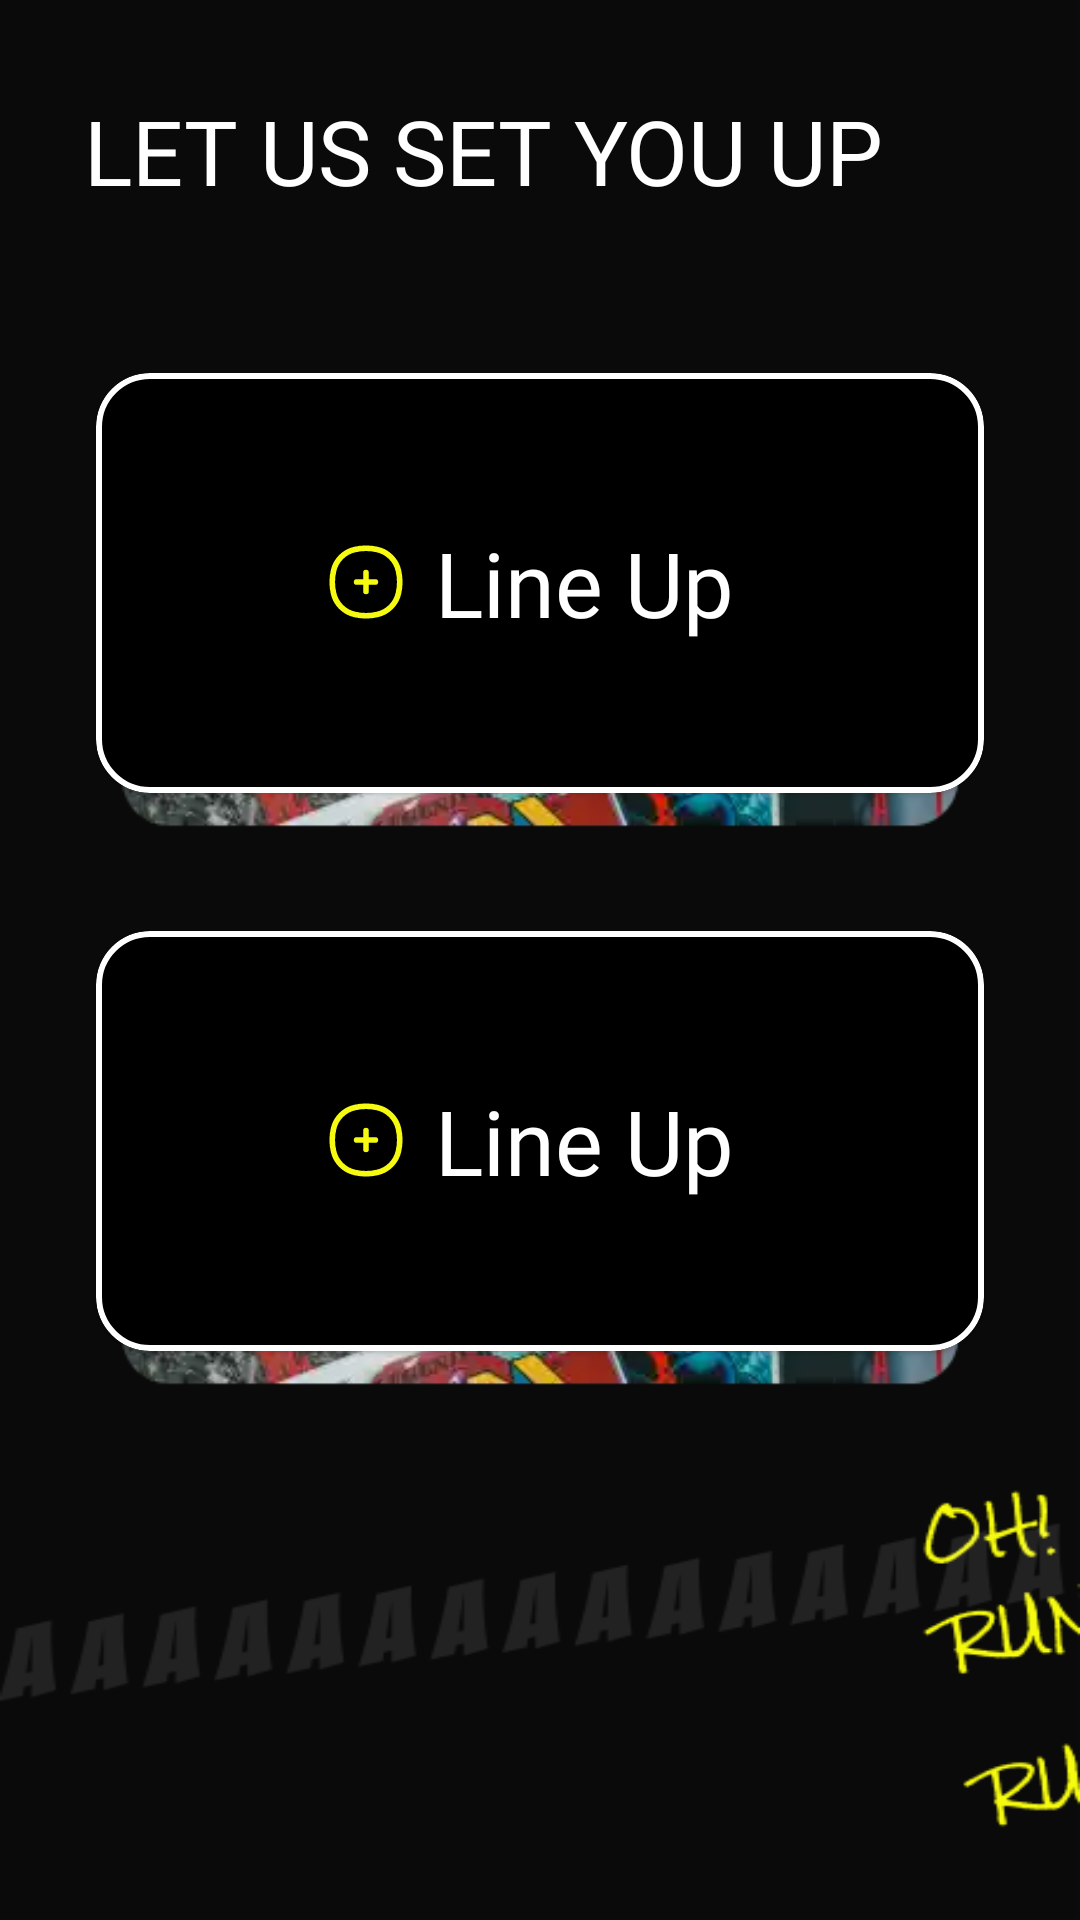

Icon bounding boxes for this 1080px x 1920px phone screenshot, format (x1, y1, x2, y2):
add: (329, 545, 403, 619), (329, 1103, 403, 1177)
